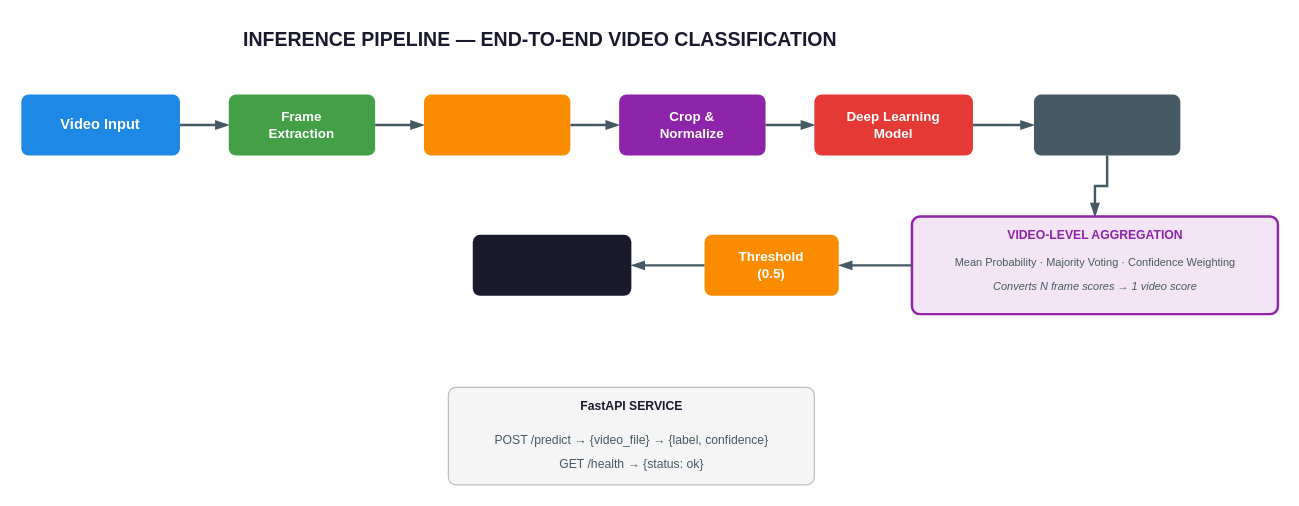
This 1299x506 diagram has some shape labels left out. The box of each missing label's shape, as (x1, y1, x2, y2) in pixels:
Face Detection: (423, 94, 570, 155)
Frame Predictions: (1033, 94, 1180, 155)
Real / Fake: (472, 234, 631, 295)
